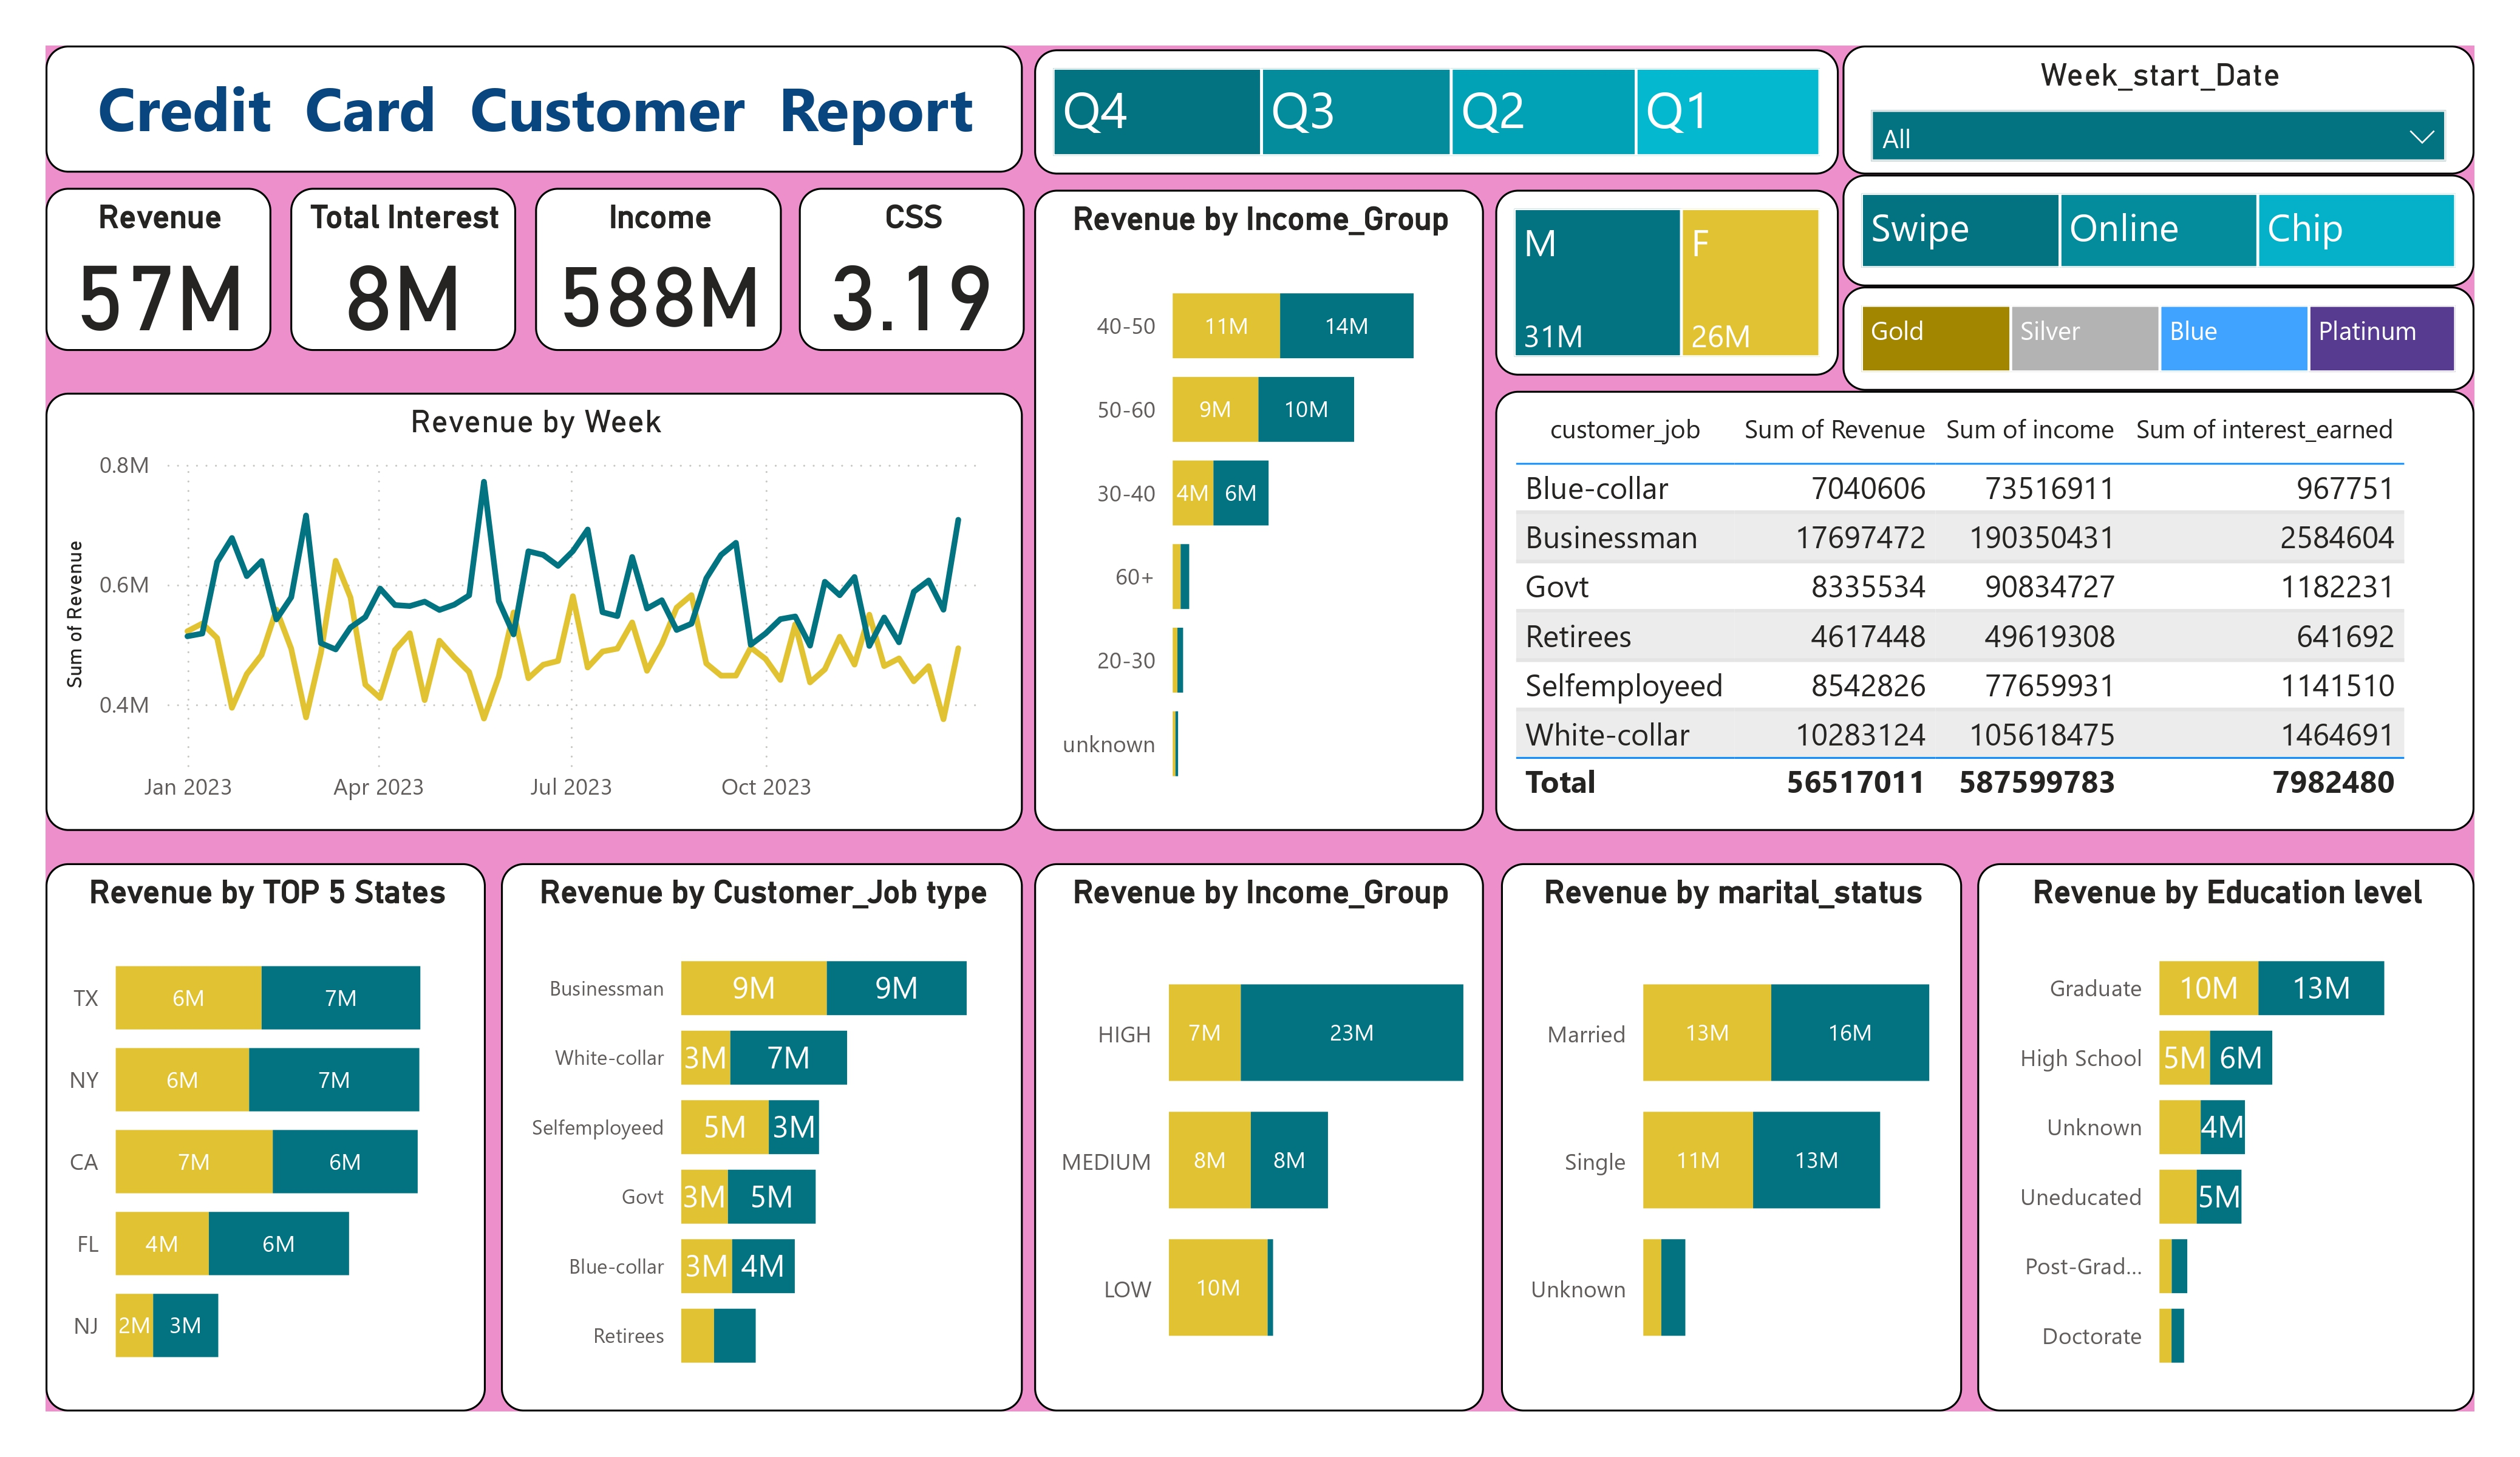

The dashboard page shown, as its layout file describes it:
{"tool":"powerbi","page":{"name":"CC Customer","canvas":[1280,720],"ordinal":1},"visuals":[{"type":"textbox","box":[0,0,514.6,67.2],"z":0},{"type":"tableEx","fields":{"Values":["public cust_detail.customer_job","Sum(public cc_detail.Revenue)","Sum(public cust_detail.income)","Sum(public cc_detail.interest_earned)"]},"box":[763.7,182.2,516.4,231.6],"z":1000},{"type":"card","title":"Revenue","fields":{"Values":["Sum(public cc_detail.Revenue)"]},"box":[0,75.5,119.4,85.1],"z":2000},{"type":"card","title":"Total Interest","fields":{"Values":["Sum(public cc_detail.interest_earned)"]},"box":[129,75.5,119.4,85.1],"z":3000},{"type":"card","title":"Income","fields":{"Values":["Sum(public cust_detail.income)"]},"box":[258,75.5,130.4,85.1],"z":4000},{"type":"card","title":"CSS","fields":{"Values":["Avg(public cust_detail.cust_satisfaction_score)"]},"box":[396.6,75.5,119.4,85.1],"z":5000},{"type":"barChart","title":"Revenue by marital_status","fields":{"Y":["Sum(public cc_detail.Revenue)"],"Category":["public cust_detail.marital_status"],"Series":["public cust_detail.gender"]},"box":[767.3,430.7,242.5,289.5],"z":6000},{"type":"treemap","fields":{"Group":["public cc_detail.qtr"],"Values":["Avg(public cc_detail.client_num)"]},"box":[521.2,2.4,423.5,65.1],"z":7000},{"type":"treemap","fields":{"Group":["public cc_detail.card_category"],"Values":["Avg(public cc_detail.client_num)"]},"box":[947.1,126.7,333,55.5],"z":9000},{"type":"treemap","fields":{"Group":["public cc_detail.use_chip"],"Values":["Avg(public cc_detail.client_num)"]},"box":[947.1,67.6,333,59.1],"z":10000},{"type":"slicer","title":"Week_start_Date","fields":{"Values":["public cc_detail.week_start_date"]},"box":[947.1,0,333,67.6],"z":11000},{"type":"lineChart","title":"Revenue by Week","fields":{"Y":["Sum(public cc_detail.Revenue)"],"Series":["public cust_detail.gender"],"Category":["public cc_detail.week_start_date.Variation.Date Hierarchy.Year","public cc_detail.week_start_date.Variation.Date Hierarchy.Month","public cc_detail.week_start_date.Variation.Date Hierarchy.Day"]},"box":[0,182.5,514.6,231.9],"z":12000},{"type":"treemap","fields":{"Group":["public cust_detail.gender"],"Values":["Sum(public cc_detail.Revenue)"]},"box":[763.7,76,181,97.7],"z":13000},{"type":"barChart","title":"Revenue by Education level","fields":{"Y":["Sum(public cc_detail.Revenue)"],"Category":["public cust_detail.education_level"],"Series":["public cust_detail.gender"]},"box":[1018.2,430.7,261.8,289.5],"z":14000},{"type":"barChart","title":"Revenue by Customer_Job type","fields":{"Y":["Sum(public cc_detail.Revenue)"],"Category":["public cust_detail.customer_job"],"Series":["public cust_detail.gender"]},"box":[240.1,430.7,275.1,289.5],"z":15000},{"type":"barChart","title":"Revenue by Income_Group","fields":{"Y":["Sum(public cc_detail.Revenue)"],"Category":["public cust_detail.IncomeGroup"],"Series":["public cust_detail.gender"]},"box":[521.2,430.7,236.5,289.5],"z":16000},{"type":"barChart","title":"Revenue by TOP 5 States","fields":{"Y":["Sum(public cc_detail.Revenue)"],"Category":["public cust_detail.state_cd"],"Series":["public cust_detail.gender"]},"box":[0,430.7,231.6,289.5],"z":17000},{"type":"barChart","title":"Revenue by Income_Group","fields":{"Y":["Sum(public cc_detail.Revenue)"],"Category":["public cust_detail.AgeGroup"],"Series":["public cust_detail.gender"]},"box":[521.2,76,236.5,337.8],"z":18000}]}

Visuals, with their boxes on the page's 1280x720 design canvas (x1, y1, x2, y2). These are canvas units, not pixel positions in the 2520x1457 screenshot, which may show the page scaled, cropped or inside an application window:
textbox: pyautogui.locateOnScreen(0, 0, 515, 67)
tableEx - public cust_detail.customer_job x Sum(public cc_detail.Revenue): pyautogui.locateOnScreen(764, 182, 1280, 414)
"Revenue" card: pyautogui.locateOnScreen(0, 76, 119, 161)
"Total Interest" card: pyautogui.locateOnScreen(129, 76, 248, 161)
"Income" card: pyautogui.locateOnScreen(258, 76, 388, 161)
"CSS" card: pyautogui.locateOnScreen(397, 76, 516, 161)
"Revenue by marital_status" barChart: pyautogui.locateOnScreen(767, 431, 1010, 720)
treemap - public cc_detail.qtr x Avg(public cc_detail.client_num): pyautogui.locateOnScreen(521, 2, 945, 68)
treemap - public cc_detail.card_category x Avg(public cc_detail.client_num): pyautogui.locateOnScreen(947, 127, 1280, 182)
treemap - public cc_detail.use_chip x Avg(public cc_detail.client_num): pyautogui.locateOnScreen(947, 68, 1280, 127)
"Week_start_Date" slicer: pyautogui.locateOnScreen(947, 0, 1280, 68)
"Revenue by Week" lineChart: pyautogui.locateOnScreen(0, 182, 515, 414)
treemap - public cust_detail.gender x Sum(public cc_detail.Revenue): pyautogui.locateOnScreen(764, 76, 945, 174)
"Revenue by Education level" barChart: pyautogui.locateOnScreen(1018, 431, 1280, 720)
"Revenue by Customer_Job type" barChart: pyautogui.locateOnScreen(240, 431, 515, 720)
"Revenue by Income_Group" barChart: pyautogui.locateOnScreen(521, 431, 758, 720)
"Revenue by TOP 5 States" barChart: pyautogui.locateOnScreen(0, 431, 232, 720)
"Revenue by Income_Group" barChart: pyautogui.locateOnScreen(521, 76, 758, 414)
